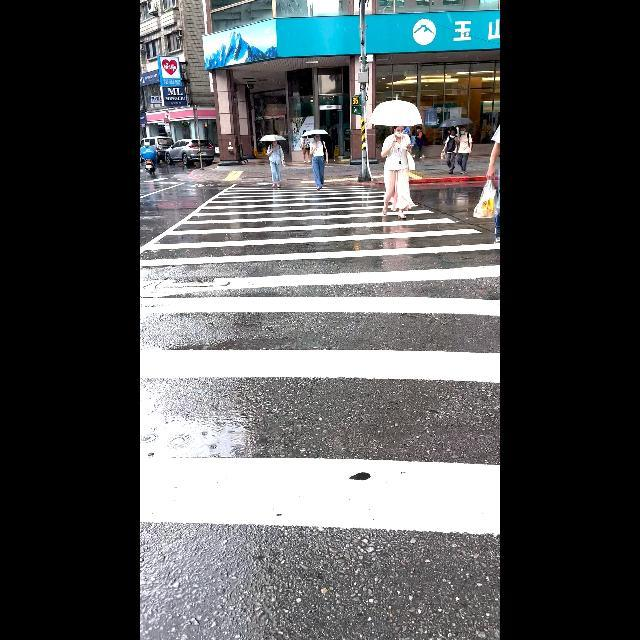sidewalk: (140, 174, 493, 530)
